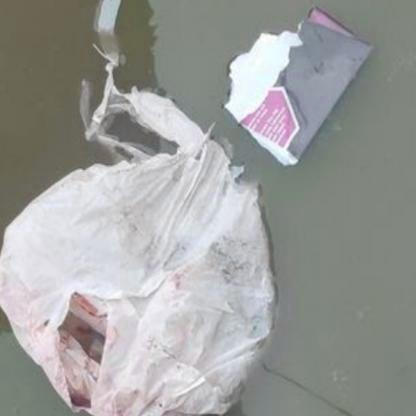Trash: (1, 49, 285, 415), (224, 8, 376, 166)
